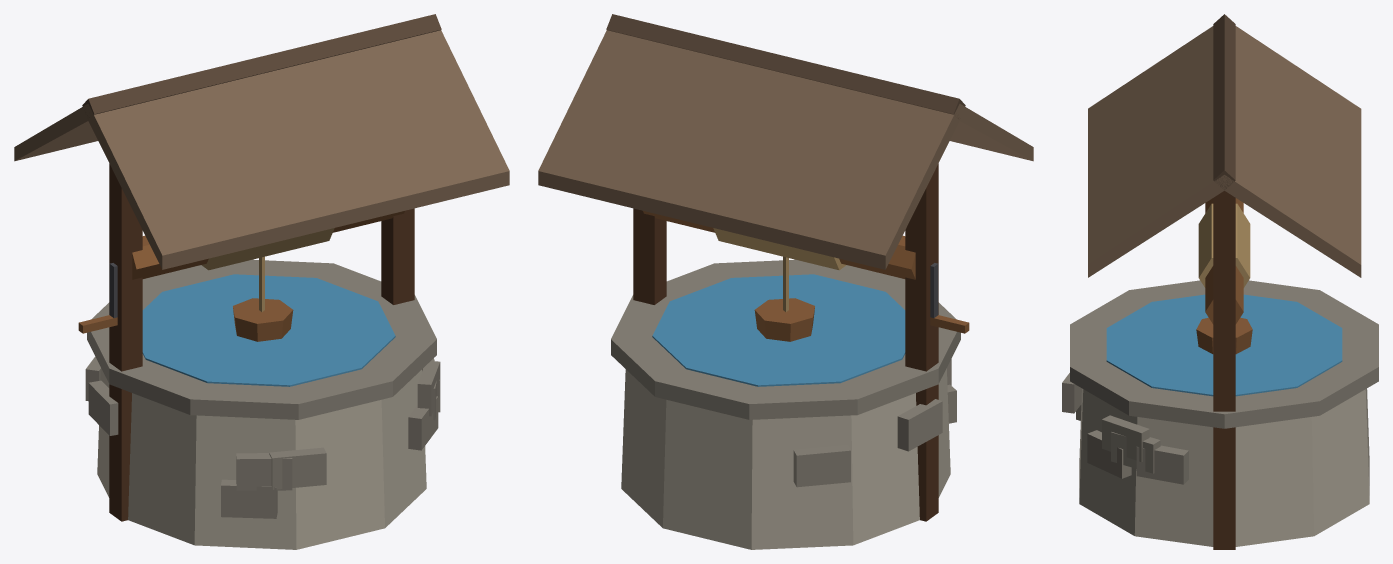
The model's file is Dorf_Brunnen.fbx.
3 views of the same model, side by side, from view 1: azimuth 30°, elevation 25°; view 2: azimuth 150°, elevation 25°; view 3: azimuth 270°, elevation 25° (orthographic). The views are drawn at different scales.
Visible parts, largest first — view 1: Dorf_Brunnen; view 2: Dorf_Brunnen; view 3: Dorf_Brunnen.
Part boxes in pixels (left/top/right/bottom): Dorf_Brunnen: left=14, top=14, right=509, bottom=549; Dorf_Brunnen: left=538, top=14, right=1033, bottom=549; Dorf_Brunnen: left=1062, top=14, right=1378, bottom=549.
Bounding box in the file's own units: 2.35 × 2.69 × 1.97.
